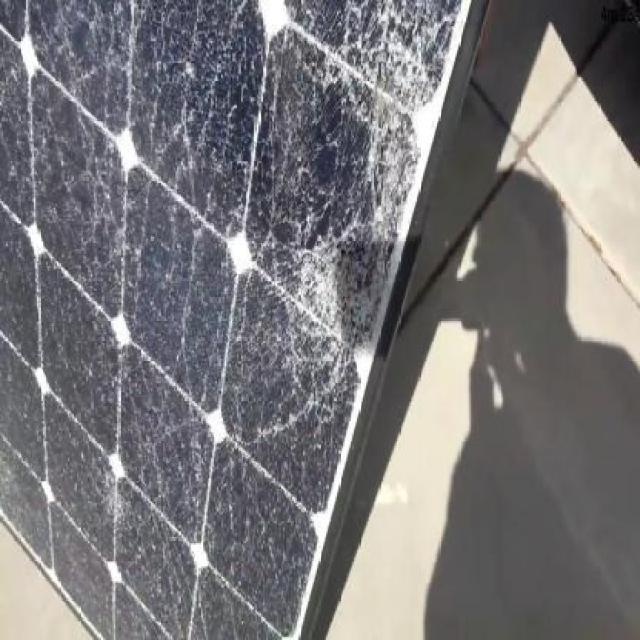cracked: (3, 1, 480, 640)
